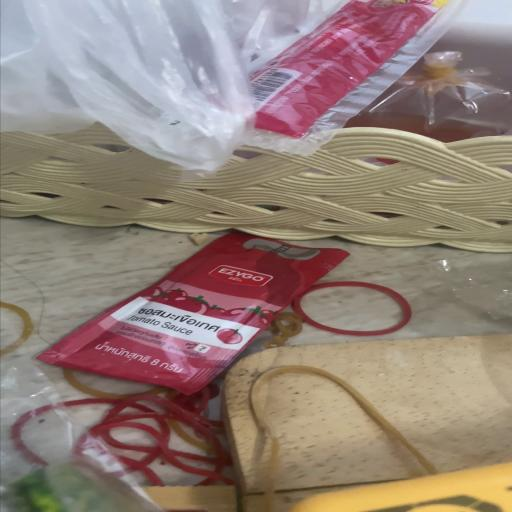brand_golden_good: (226, 336, 512, 510)
